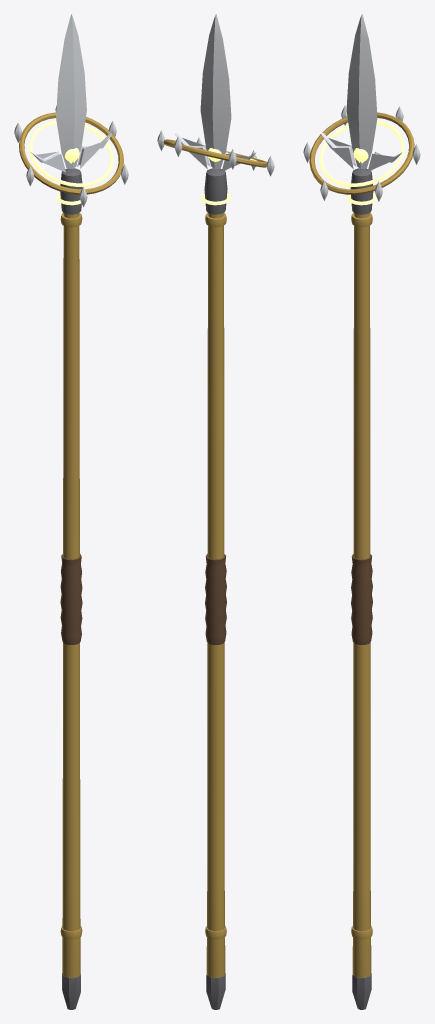
File: esc_w_ranger_spear_1.glb
The picture shows the model from 3 angles, left to right: view 1: azimuth 30°, elevation 25°; view 2: azimuth 150°, elevation 25°; view 3: azimuth 330°, elevation 25°; orthographic projection.
Parts seen in each view (by area): view 1: esc_w_ranger_spear_1; view 2: esc_w_ranger_spear_1; view 3: esc_w_ranger_spear_1.
Boxes of the visible parts, left/top/right/bottom form: esc_w_ranger_spear_1: left=14, top=14, right=128, bottom=1009; esc_w_ranger_spear_1: left=157, top=14, right=274, bottom=1009; esc_w_ranger_spear_1: left=303, top=14, right=420, bottom=1009.
Size of the model in its own units: 0.2523 by 2.33 by 0.2286.
